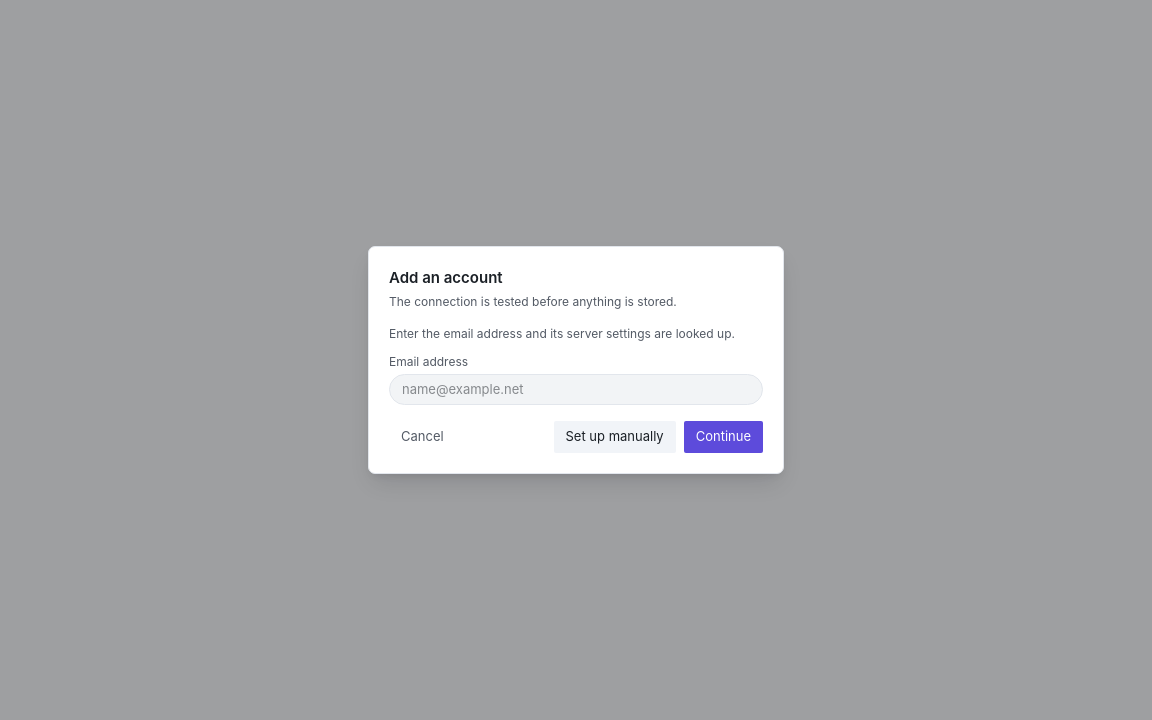
Test case: a begun sign-in › begins with the provider and the address as the login hint
The width and height of the screenshot is (1152, 720).
Step 1. Type "work@example.test" into the field labelled "Email address" → {"x": 576, "y": 389}, box 389,374 -> 763,405
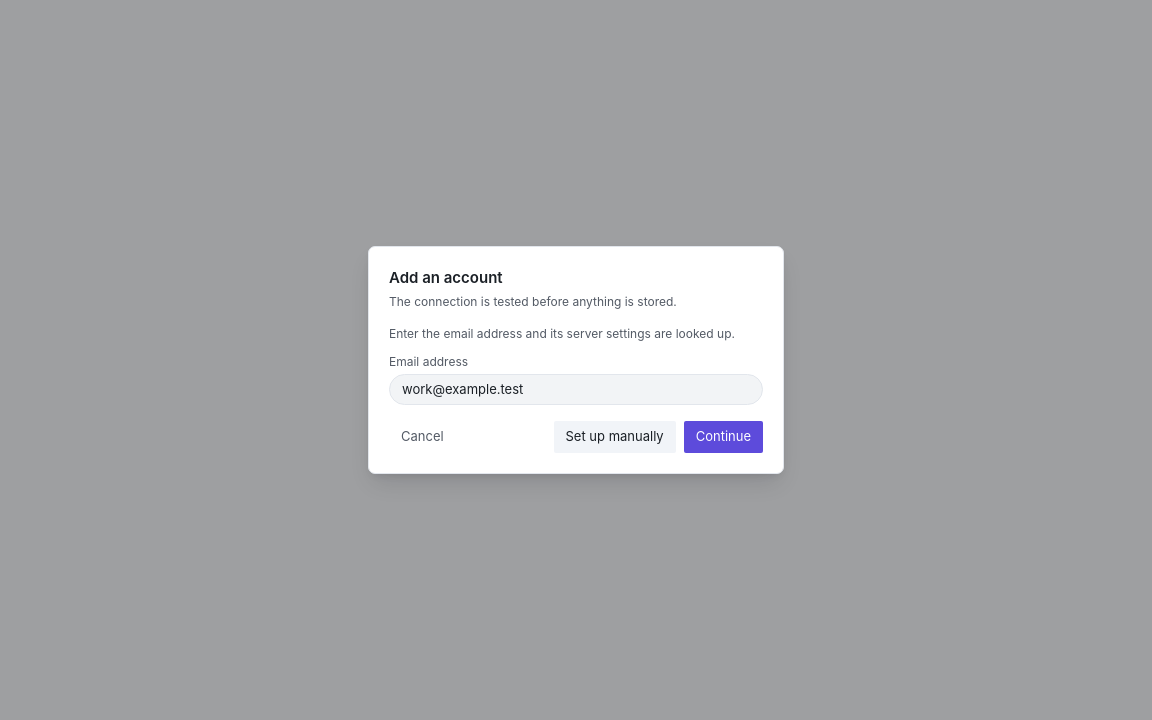
Step 2. Click the button "Set up manually" → {"x": 615, "y": 437}, box 554,421 -> 676,453
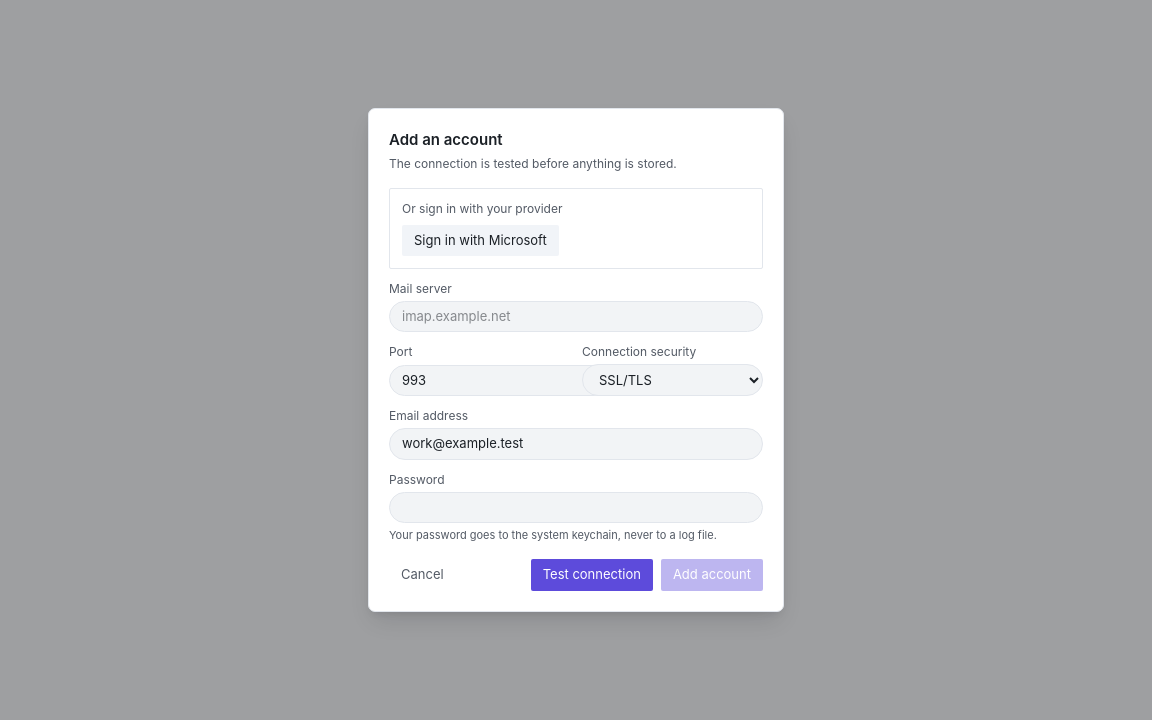
Expected: the field labelled "Mail server" is shown, 389,301 -> 763,332
Step 3. Click the button "Sign in with Microsoft" → {"x": 480, "y": 240}, box 402,224 -> 559,256
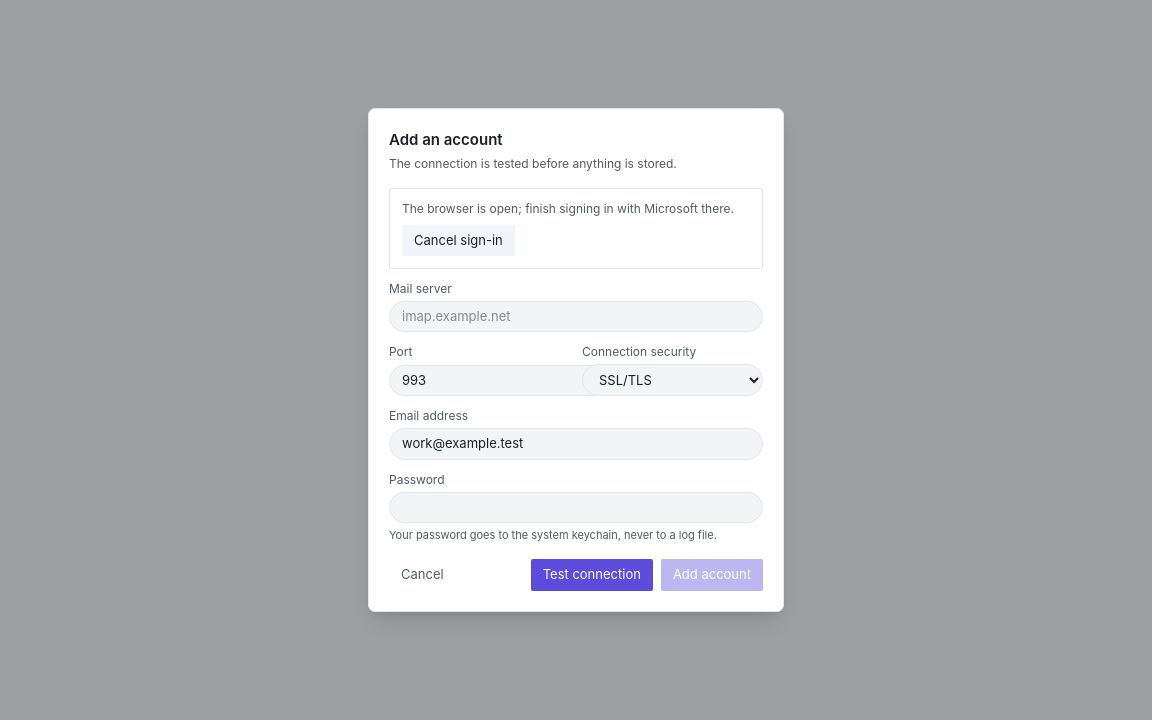
Result: the text "The browser is open; finish signing in with Microsoft there." is shown at 402,200 -> 750,216
Result: the button "Cancel sign-in" is shown at 402,224 -> 515,256
